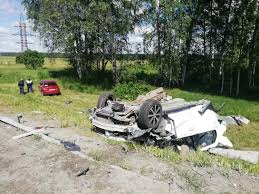car: (63, 66, 244, 164)
